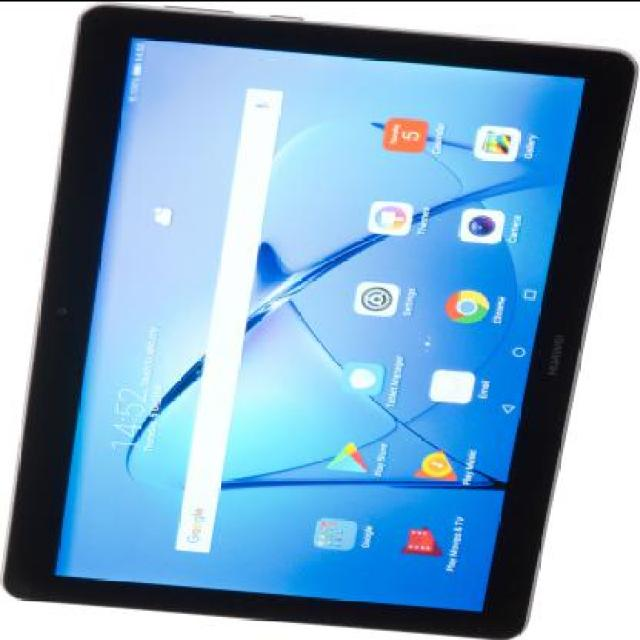tablet: (69, 8, 568, 640)
